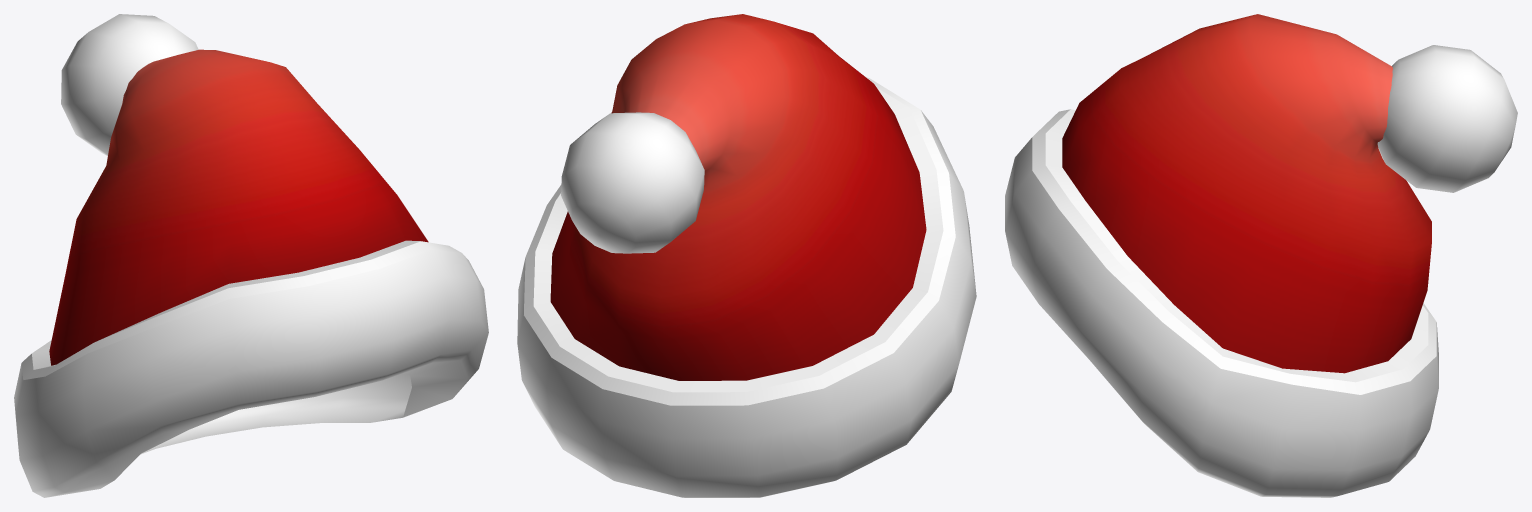
Rendered from hat_christmas.glb.
The picture shows the model from 3 angles, left to right: view 1: azimuth 30°, elevation 25°; view 2: azimuth 150°, elevation 25°; view 3: azimuth 270°, elevation 25°; orthographic projection. The views are drawn at different scales.
Parts seen in each view (by area): view 1: Gorro_navidad; view 2: Gorro_navidad; view 3: Gorro_navidad.
Part boxes in pixels (<box>): Gorro_navidad: <box>14,14,488,497</box>; Gorro_navidad: <box>517,14,976,497</box>; Gorro_navidad: <box>1005,14,1517,497</box>.
Size of the model in its own units: 1.3 by 1.24 by 1.37.
Materials: 1 (1 with a texture image).
